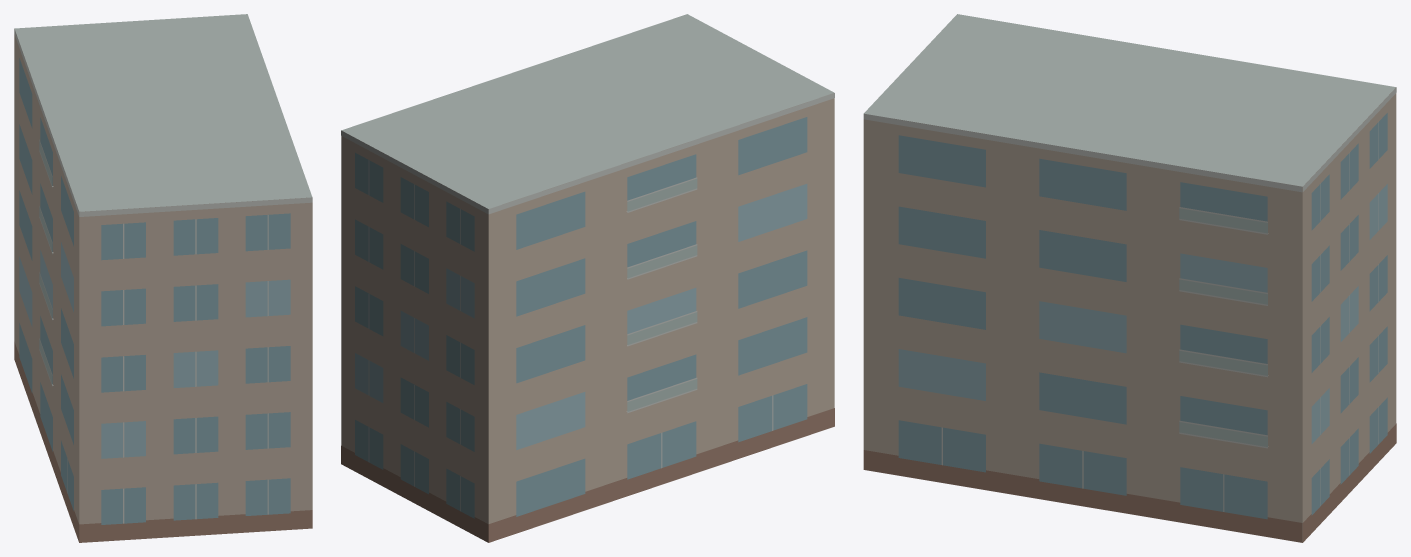
The model's file is survey-upis-32969913.glb.
3 renders of one model, left to right at view 1: azimuth 30°, elevation 25°; view 2: azimuth 150°, elevation 25°; view 3: azimuth 270°, elevation 25°, orthographic. The views are drawn at different scales.
Parts seen in each view (by area): view 1: survey-upis-32969913.tmp; view 2: survey-upis-32969913.tmp; view 3: survey-upis-32969913.tmp.
Boxes of the visible parts, x1=… form: survey-upis-32969913.tmp: x1=14, y1=14, x2=312, y2=542; survey-upis-32969913.tmp: x1=341, y1=14, x2=834, y2=542; survey-upis-32969913.tmp: x1=863, y1=14, x2=1396, y2=542.
Bounding box in the file's own units: 15.87 × 15.25 × 20.68.
